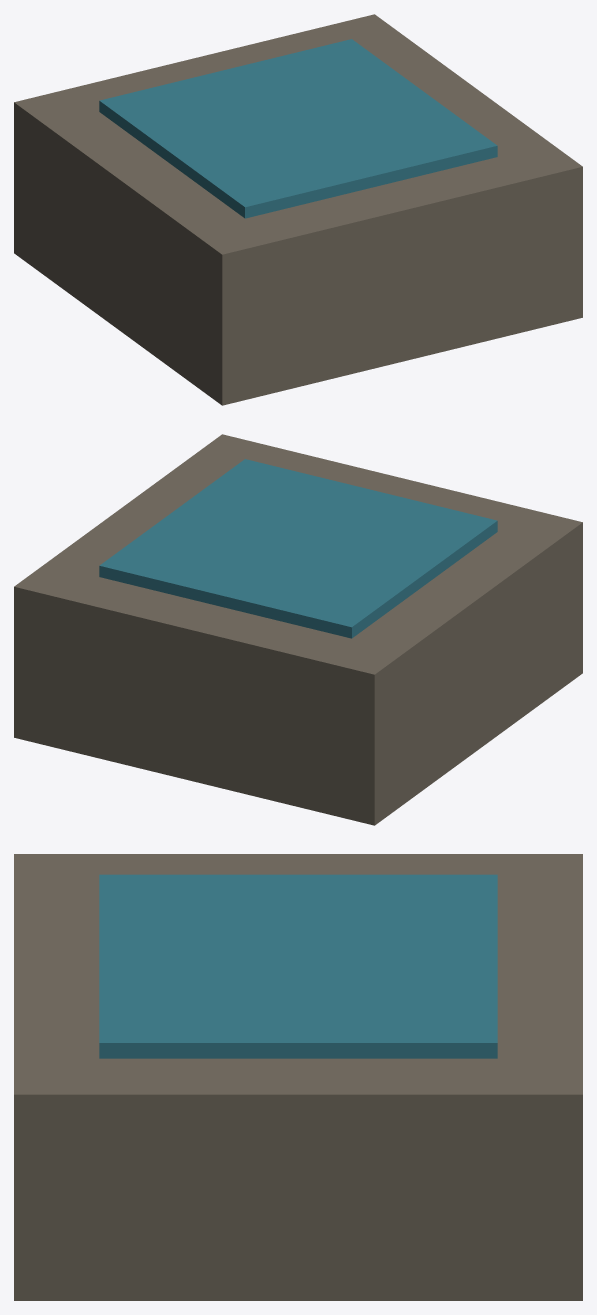
File: Oasis-well.glb
The picture shows the model from 3 angles, top to bottom: view 1: azimuth 30°, elevation 25°; view 2: azimuth 150°, elevation 25°; view 3: azimuth 270°, elevation 25°; orthographic projection. The views are drawn at different scales.
Visible parts, largest first — view 1: oasis-well-static-well-stone, oasis-well-static-well-water; view 2: oasis-well-static-well-stone, oasis-well-static-well-water; view 3: oasis-well-static-well-stone, oasis-well-static-well-water.
Part boxes in pixels (<box>): oasis-well-static-well-stone: <box>14,14,582,405</box>; oasis-well-static-well-water: <box>99,39,497,218</box>; oasis-well-static-well-stone: <box>14,434,582,825</box>; oasis-well-static-well-water: <box>99,459,497,638</box>; oasis-well-static-well-stone: <box>14,854,582,1300</box>; oasis-well-static-well-water: <box>99,874,497,1058</box>.
Bounding box in the file's own units: 2 × 0.86 × 2.
